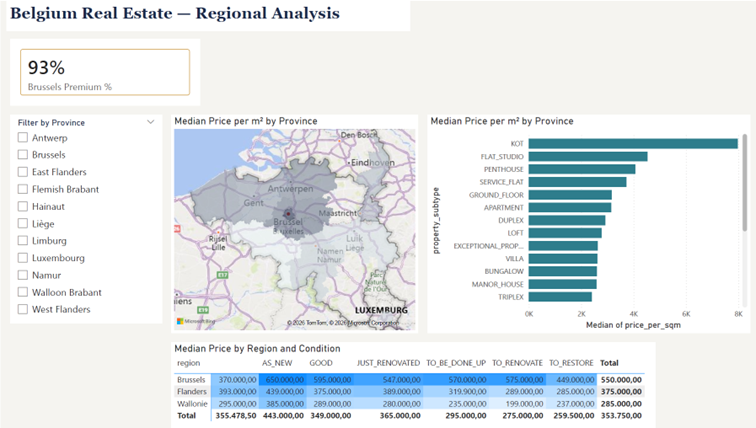

The dashboard page shown, as its layout file describes it:
{"tool":"powerbi","page":{"name":" Regional Deep-Dive","canvas":[1280,720],"ordinal":1},"visuals":[{"type":"textbox","box":[10,0,680,50],"z":0},{"type":"filledMap","title":"Median Price per m² by Province","fields":{"Category":["belgium_re_powerbi_export.province"]},"box":[288,192,416,368],"z":1000},{"type":"clusteredBarChart","title":"Median Price per m² by Province","fields":{"Category":["belgium_re_powerbi_export.property_subtype"],"Y":["Median(belgium_re_powerbi_export.price_per_sqm)"]},"box":[720,192,544,368],"z":2000},{"type":"pivotTable","title":"Median Price by Region and Condition","fields":{"Rows":["belgium_re_powerbi_export.region"],"Columns":["belgium_re_powerbi_export.building_state"],"Values":["Median(belgium_re_powerbi_export.price)"]},"box":[288,576,816,144],"z":3000},{"type":"slicer","fields":{"Values":["belgium_re_powerbi_export.province"]},"box":[16,192,256,352],"z":4000},{"type":"cardVisual","fields":{"Data":["belgium_re_powerbi_export.Brussels Premium %"]},"box":[16,64,320,112],"z":5000}]}

Visuals, with their boxes in screenshot pixels (x1, y1, x2, y2), scaled from the page's 1280x720 canvas onto the 756x428 screenshot:
textbox: [6, 0, 408, 30]
"Median Price per m² by Province" filledMap: [170, 114, 416, 333]
"Median Price per m² by Province" clusteredBarChart: [425, 114, 747, 333]
"Median Price by Region and Condition" pivotTable: [170, 342, 652, 427]
slicer - belgium_re_powerbi_export.province: [9, 114, 161, 323]
cardVisual - belgium_re_powerbi_export.Brussels Premium %: [9, 38, 198, 105]
